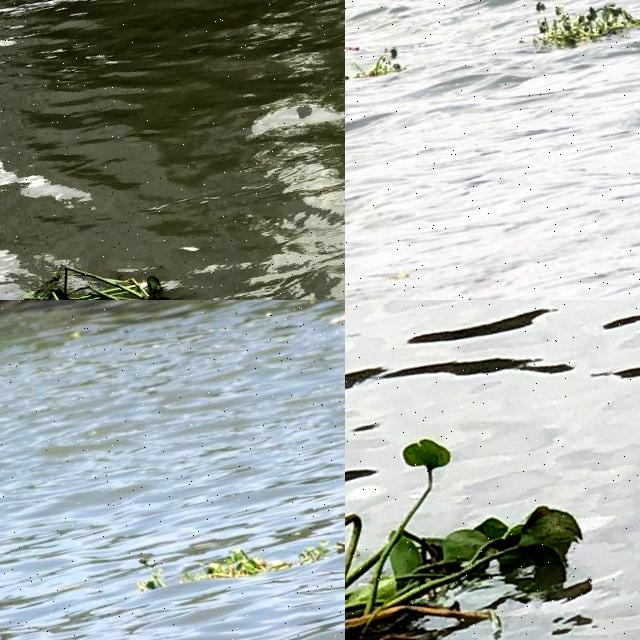water-hyacinth: (346, 413, 597, 640), (1, 234, 249, 301), (138, 520, 339, 602), (521, 1, 640, 54), (346, 45, 405, 82)
